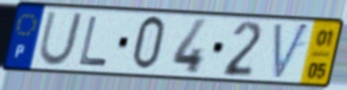0: (130, 13, 169, 75)
2: (220, 19, 265, 78)
4: (170, 18, 211, 76)
L: (77, 14, 110, 68)
U: (36, 10, 86, 68)
V: (272, 21, 312, 83)
